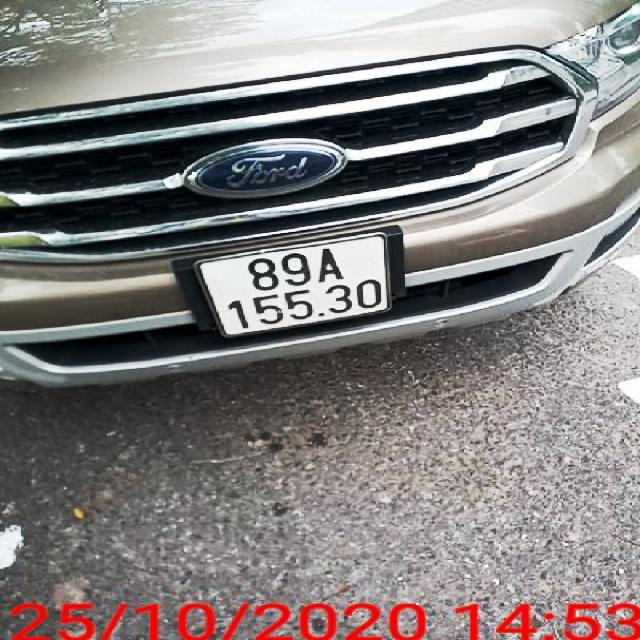license_plate: (202, 235, 387, 337)
